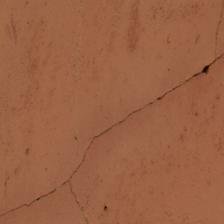Crack: (0, 67, 105, 155), (74, 89, 116, 210)
